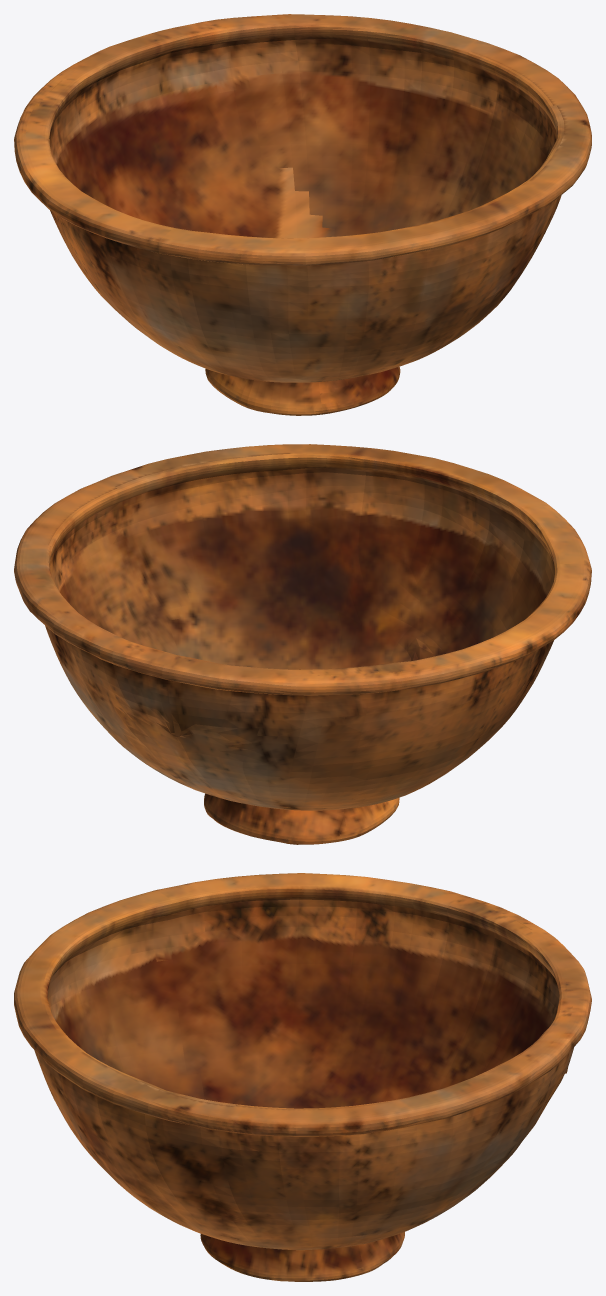
File: bowl.glb
3 renders of one model, top to bottom at view 1: azimuth 30°, elevation 25°; view 2: azimuth 150°, elevation 25°; view 3: azimuth 270°, elevation 25°, orthographic. The views are drawn at different scales.
Parts seen in each view (by area): view 1: model; view 2: model; view 3: model.
Boxes of the visible parts, x1,y1,x2,y2 form: model: (14,14,591,415); model: (14,444,591,844); model: (14,873,591,1281).
Bounding box in the file's own units: 0.3065 × 0.142 × 0.2961.
1 material, 1 textured.
